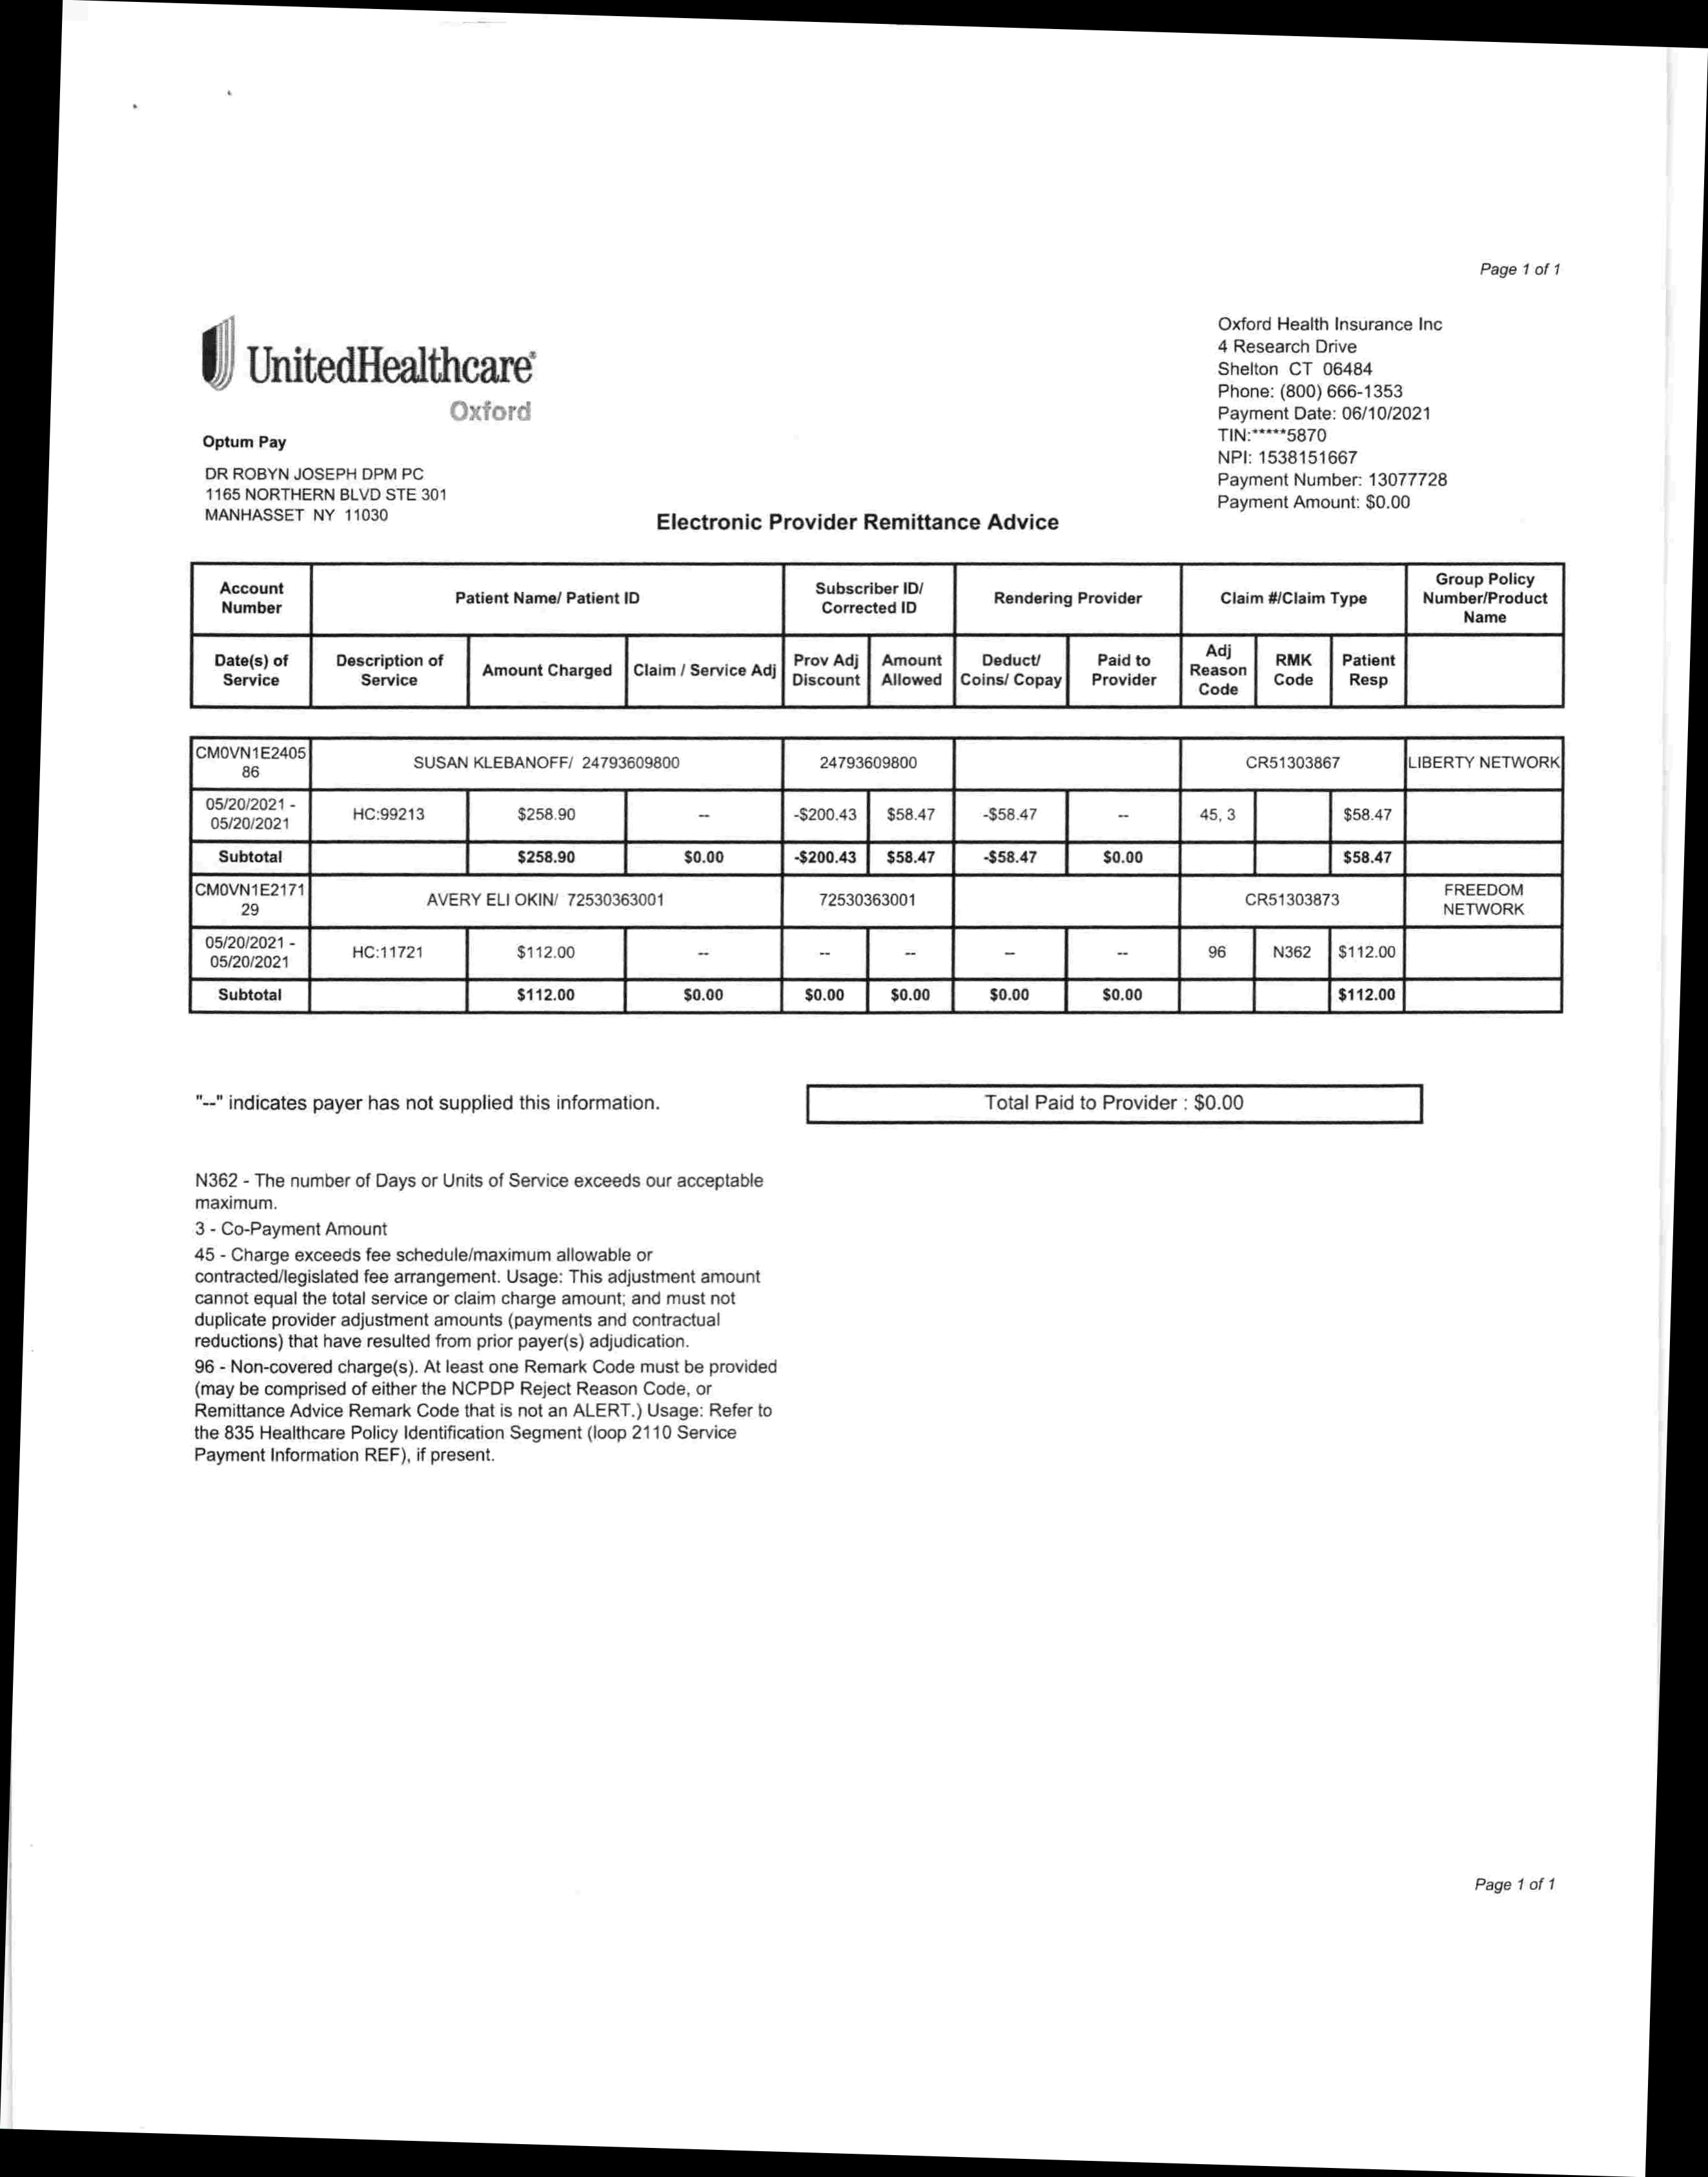data: (1204, 306, 1459, 525)
table: (177, 548, 1579, 1025)
